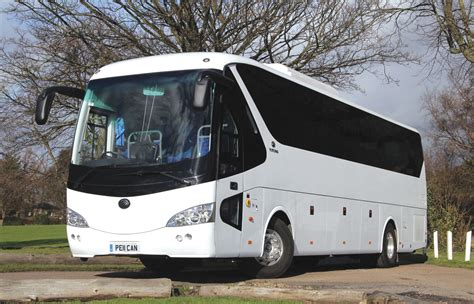bus: (70, 55, 428, 271)
